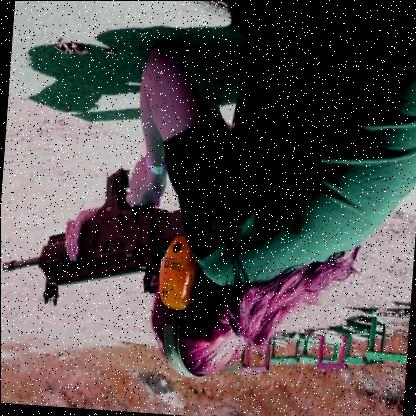rifle: (0, 150, 221, 339)
